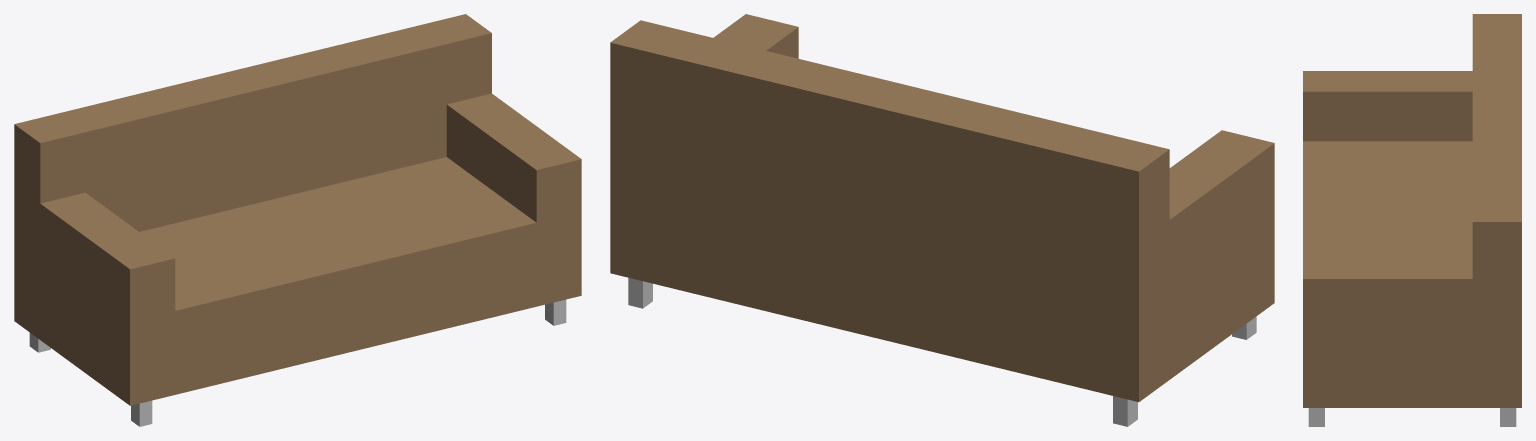
Rendered from Sofa_Old.gltf.
3 views of the same model, side by side, from view 1: azimuth 30°, elevation 25°; view 2: azimuth 150°, elevation 25°; view 3: azimuth 270°, elevation 25° (orthographic). The views are drawn at different scales.
Visible parts, largest first — view 1: A_Sofa_Old; view 2: A_Sofa_Old; view 3: A_Sofa_Old.
Part boxes in pixels (x1,y1,x2,y2): A_Sofa_Old: (14,14,581,426); A_Sofa_Old: (610,14,1274,426); A_Sofa_Old: (1303,14,1521,426).
Size of the model in its own units: 1.8 by 0.85 by 0.8.
